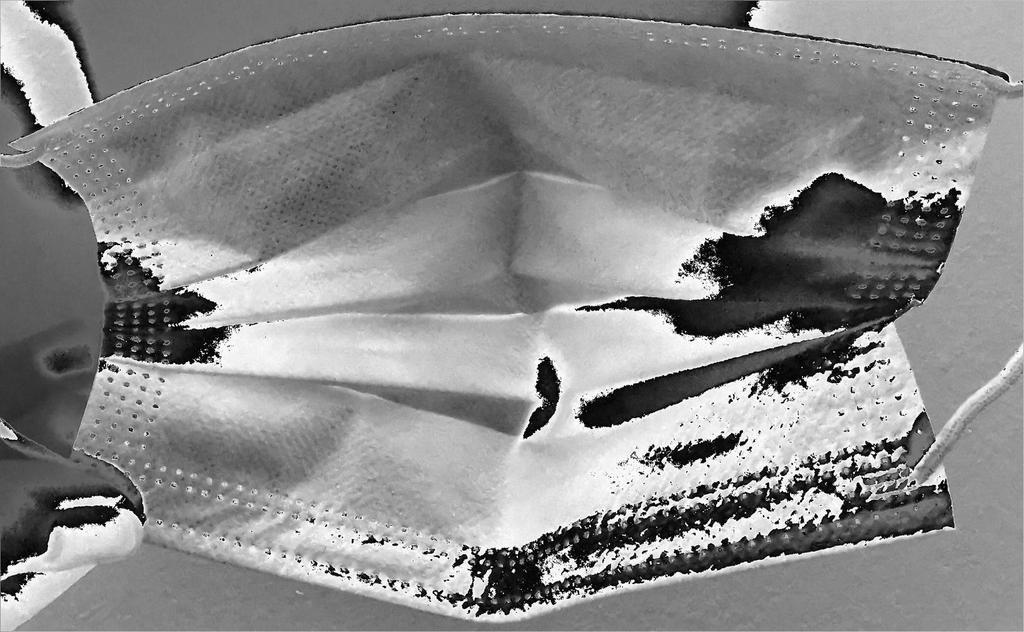High GSM: (147, 49, 887, 540)
